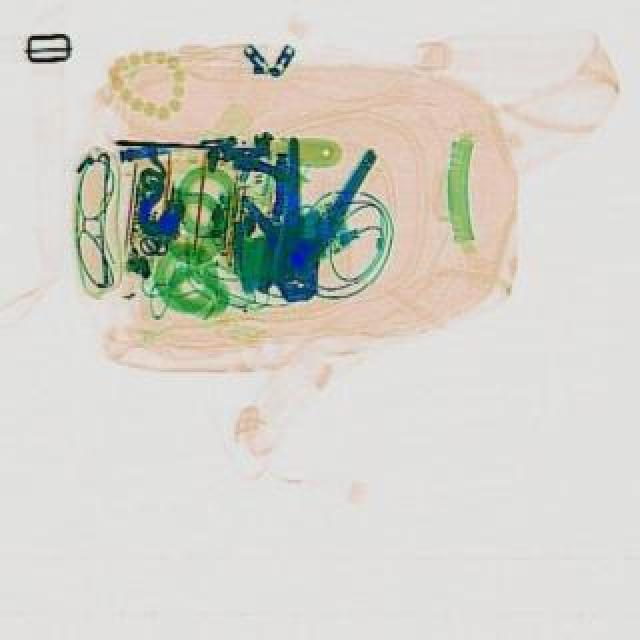wrench: (262, 138, 380, 314)
